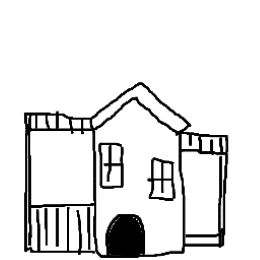bottom_placed_house: (2, 2, 260, 260)
closed_window: (143, 154, 178, 206), (96, 140, 131, 191)
door: (102, 209, 153, 260)
roof: (79, 70, 197, 139)
wall: (79, 95, 195, 260)
